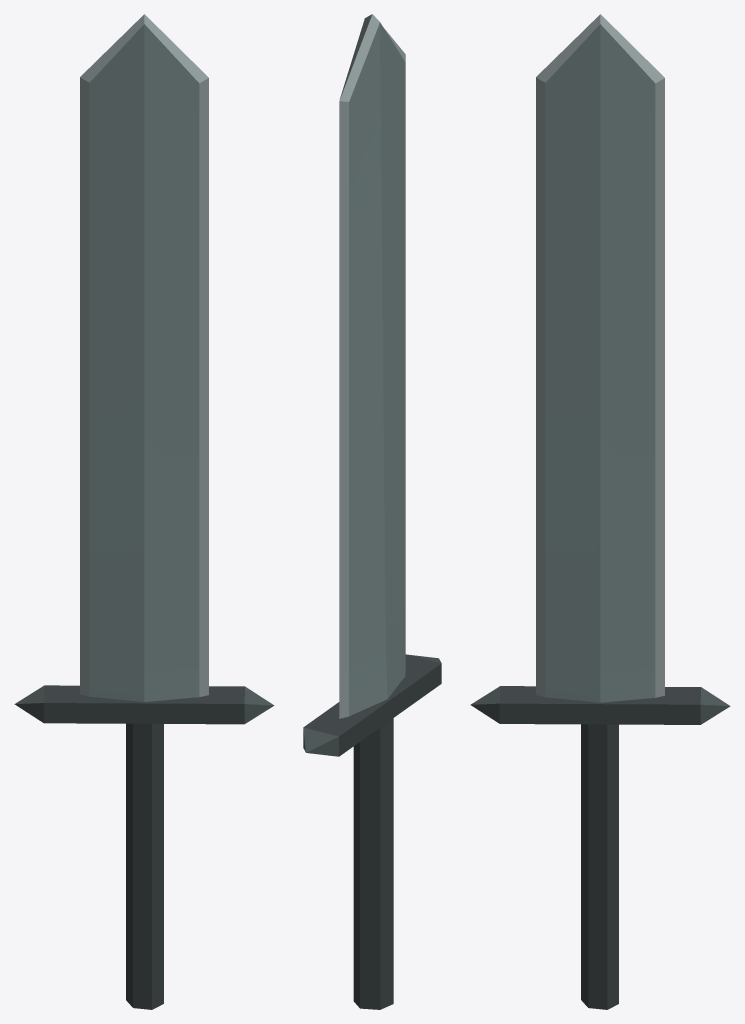
File: Sword4.fbx
3 renders of one model, left to right at view 1: azimuth 90°, elevation 25°; view 2: azimuth 150°, elevation 25°; view 3: azimuth 270°, elevation 25°, orthographic.
Visible parts, largest first — view 1: Cube.028; view 2: Cube.028; view 3: Cube.028.
Boxes of the visible parts, x1,y1,x2,y2 form: Cube.028: (14,14,274,1009); Cube.028: (303,14,441,1009); Cube.028: (470,14,730,1009).
Size of the model in its own units: 0.057 by 0.337 by 1.41.
